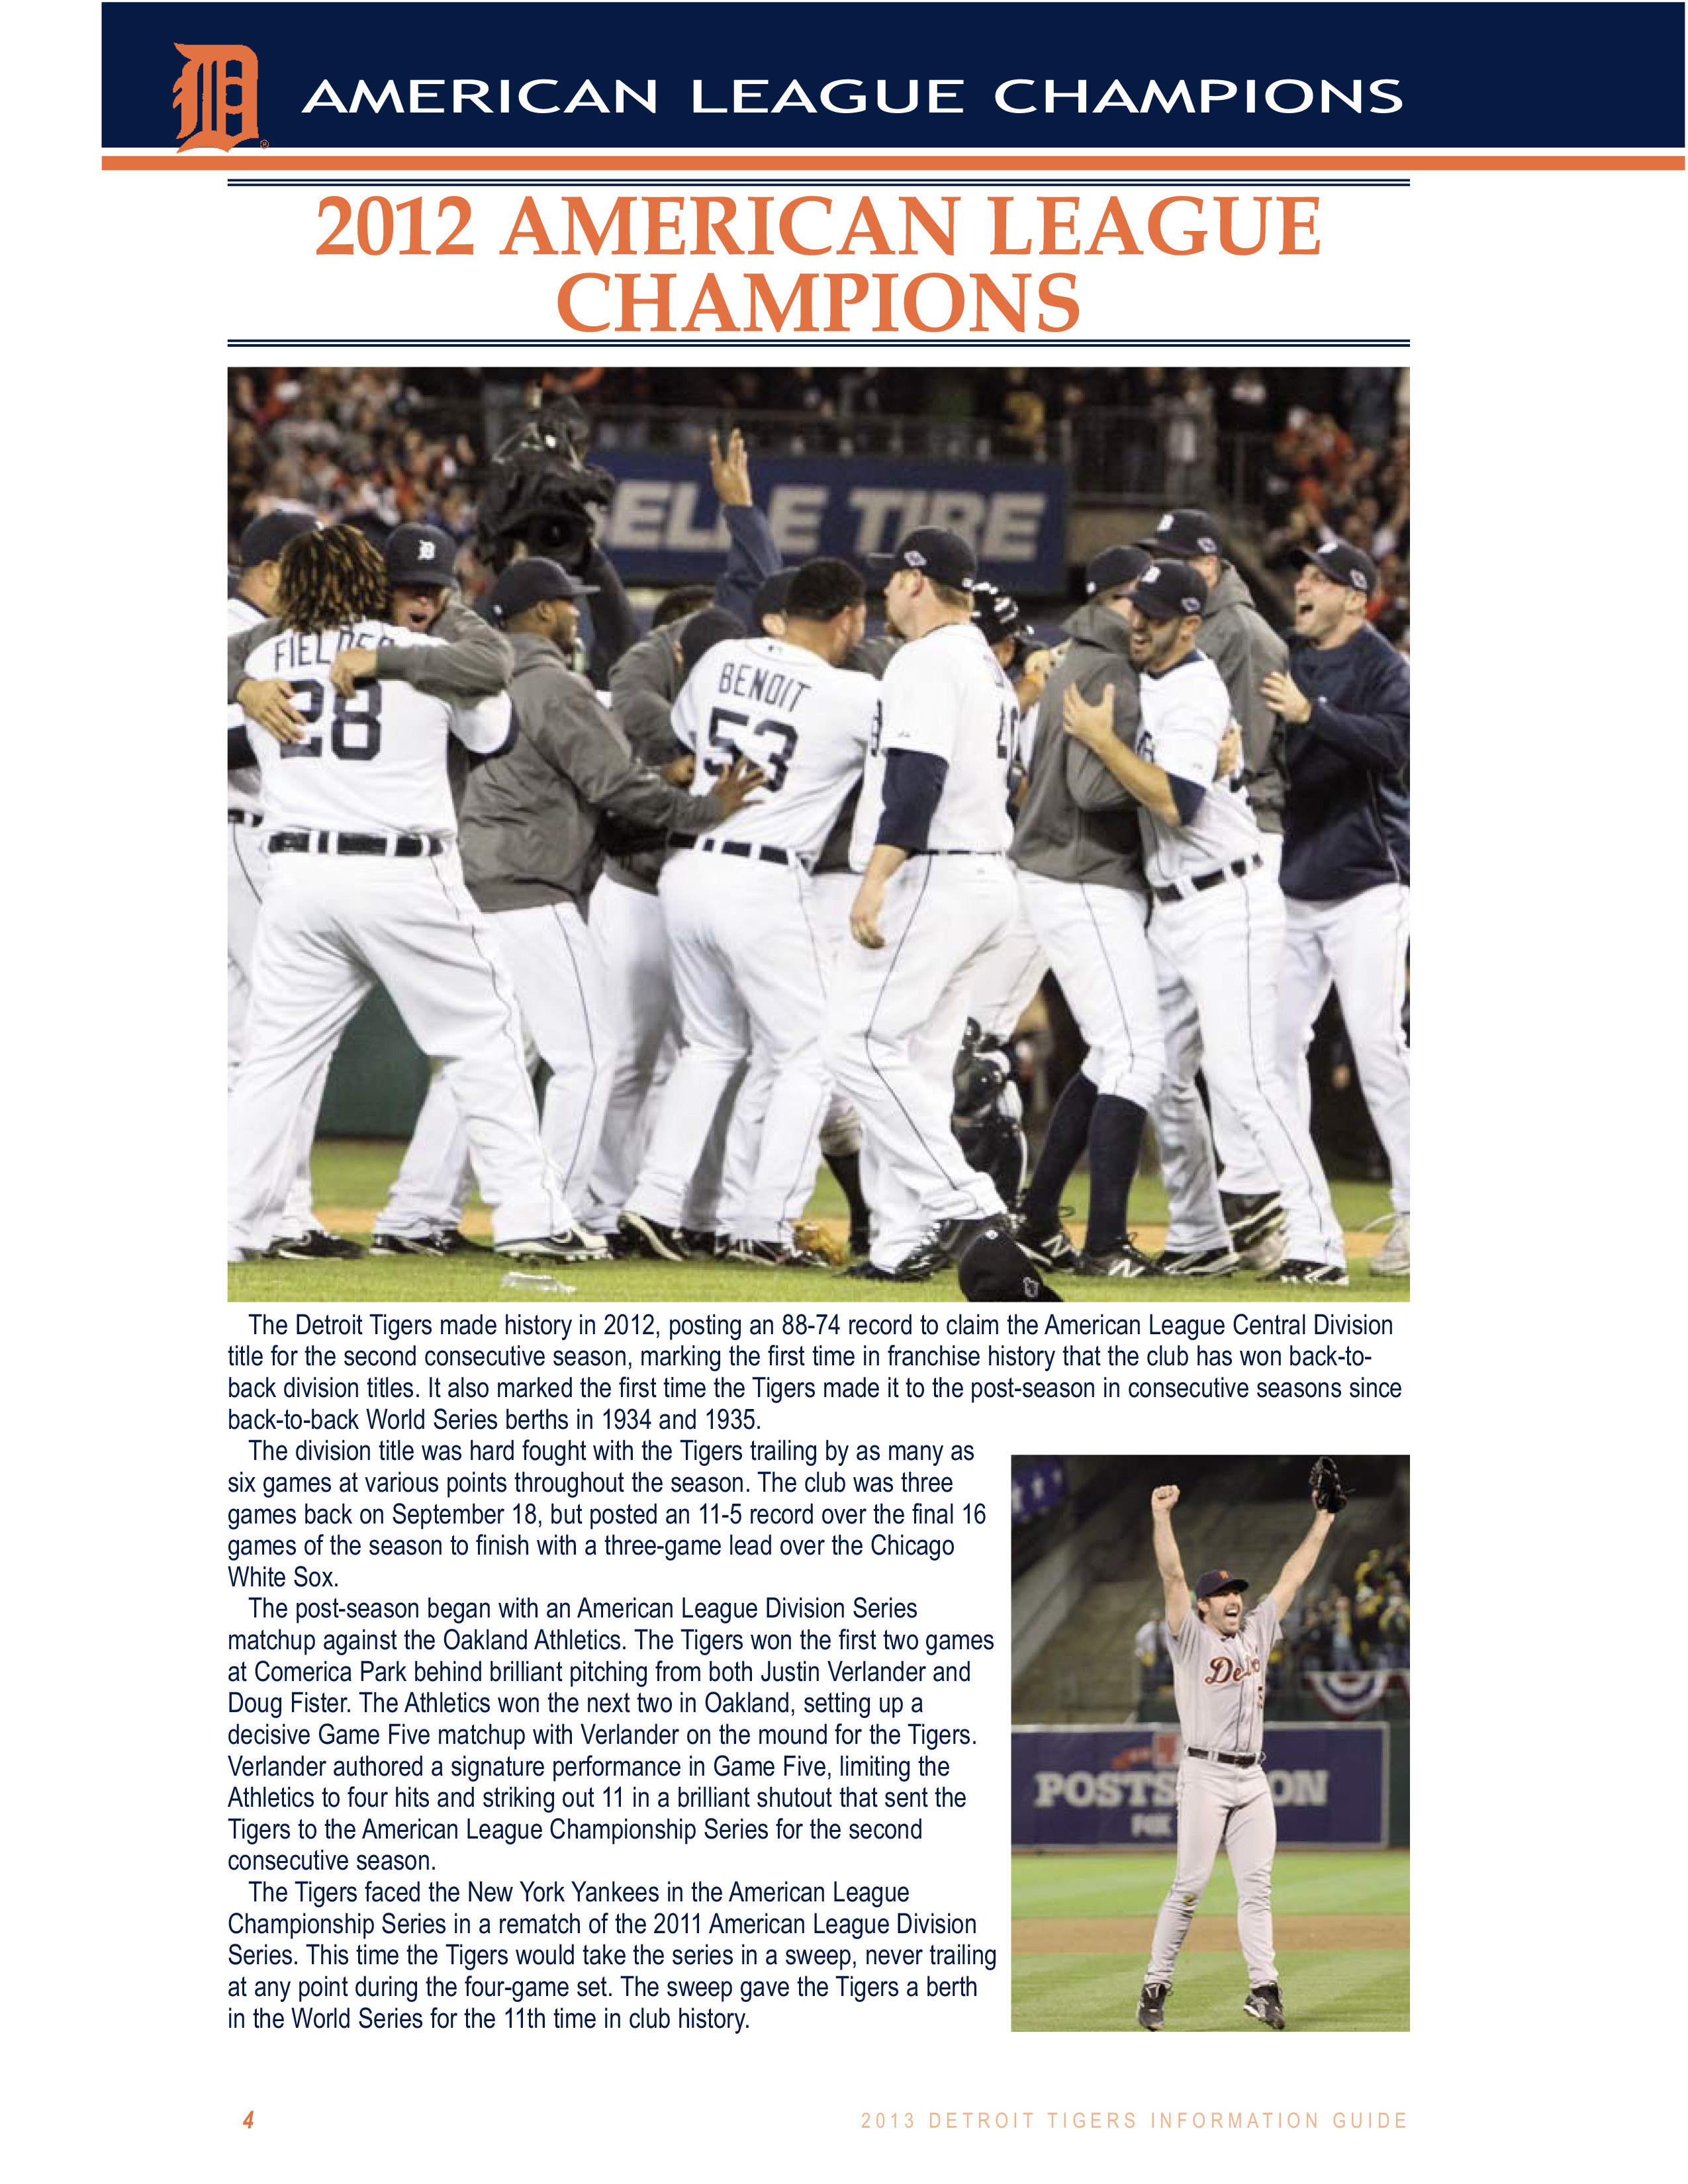figure: (227, 369, 1418, 1308), (1002, 1457, 1418, 2032), (163, 30, 277, 167)
section: (296, 186, 1335, 266), (307, 64, 1415, 126), (557, 273, 1096, 342)
text: (216, 1601, 989, 1881), (223, 1322, 1411, 1438), (213, 1881, 993, 2048), (216, 1441, 995, 1592)
